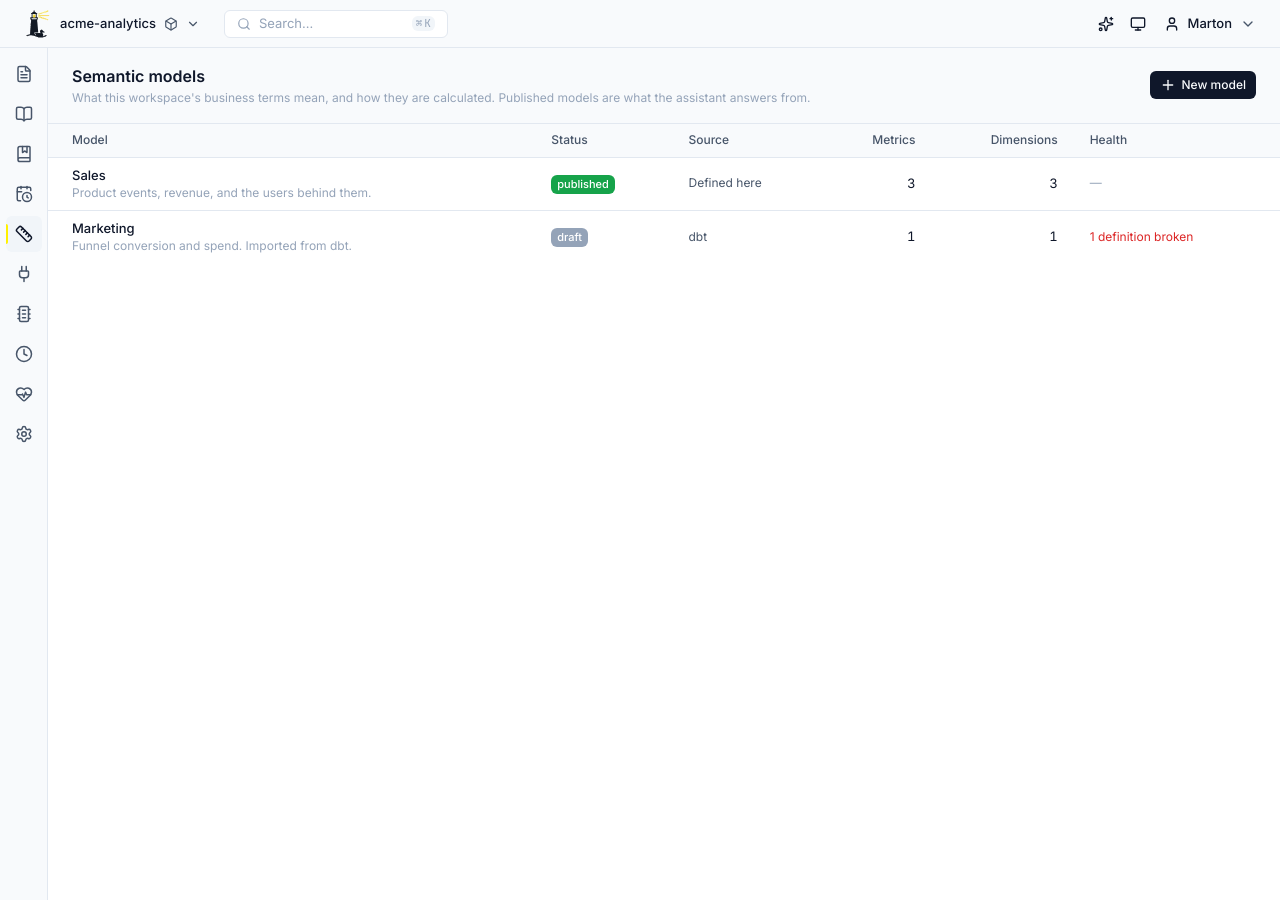
Scenario: SemanticPage › creates a model and opens it
Click the button "New model" at x=1203, y=85, box [1150,71,1256,99]
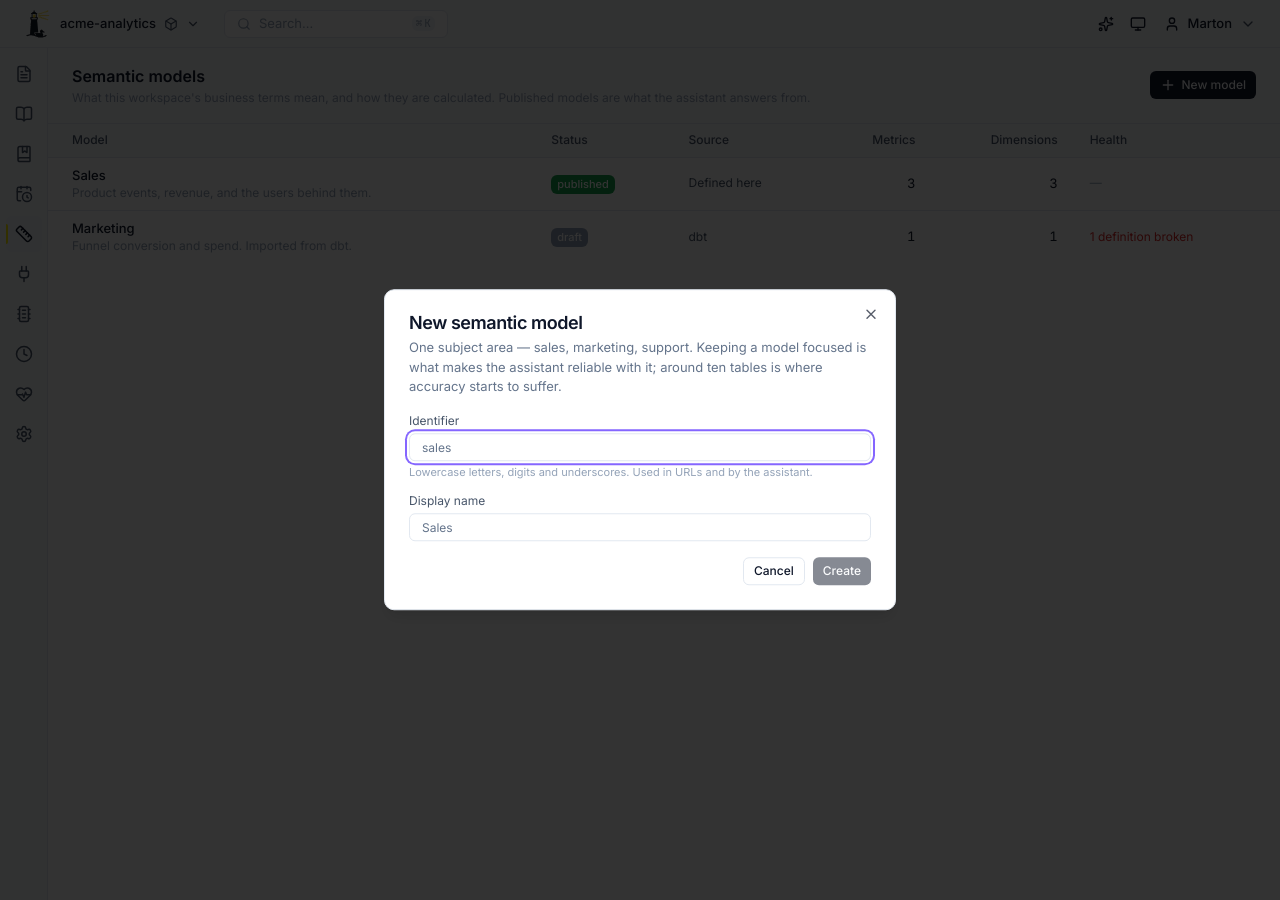
Type "support" into the field labelled "Identifier" at x=640, y=448, box [409,434,871,462]
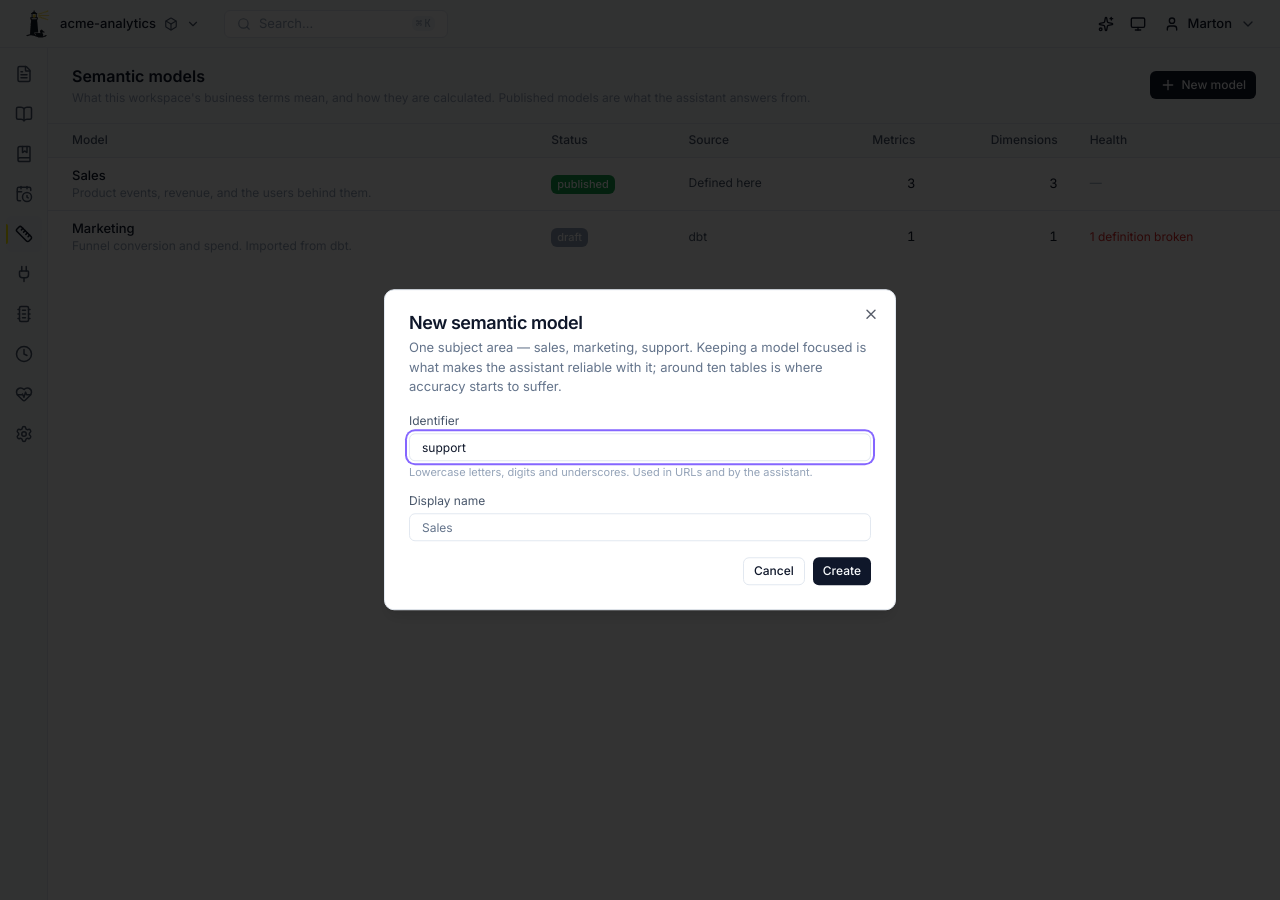
Type "Support" into the field labelled "Display name" at x=640, y=528, box [409,514,871,542]
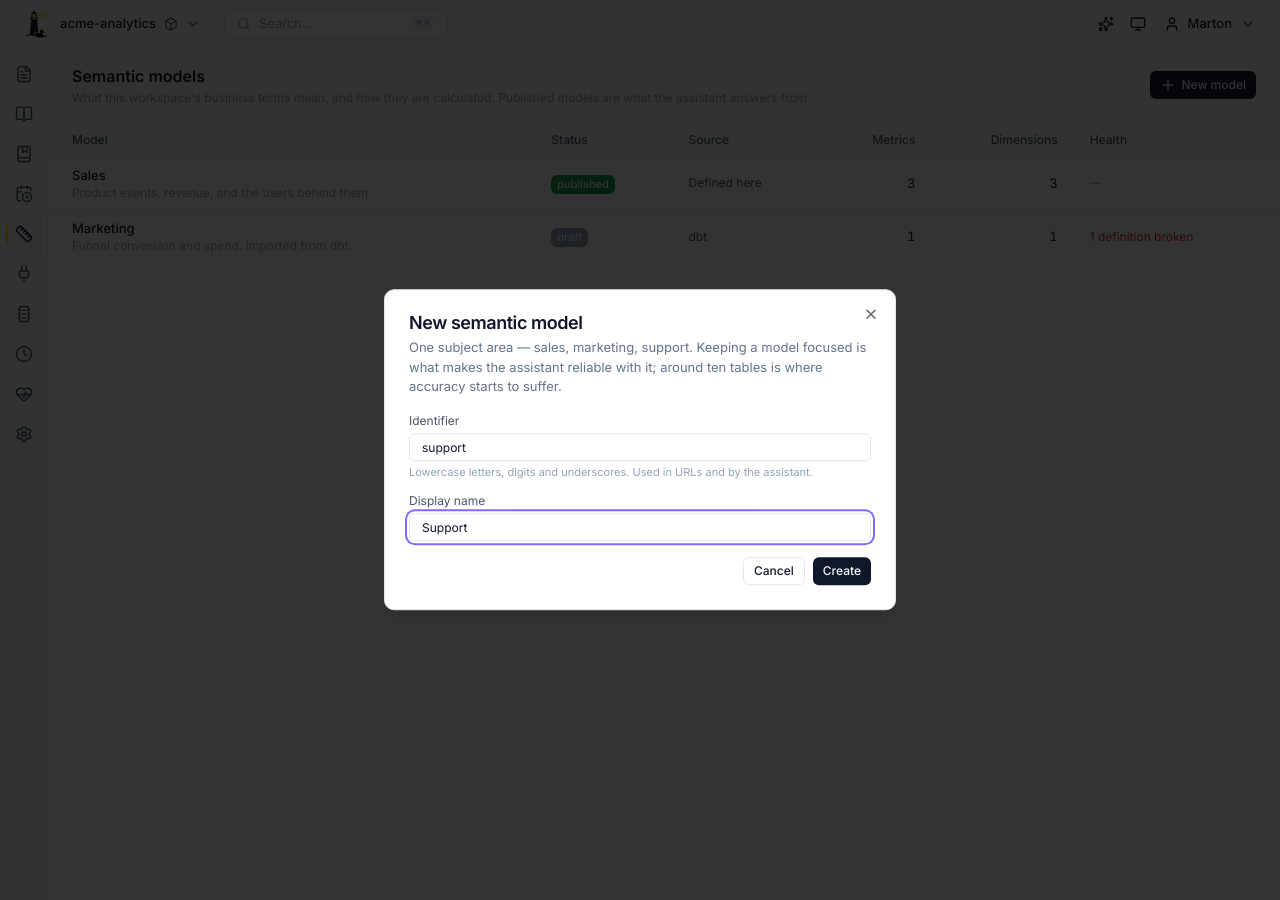
Click the button "Create" at x=842, y=572, box [813,558,871,586]
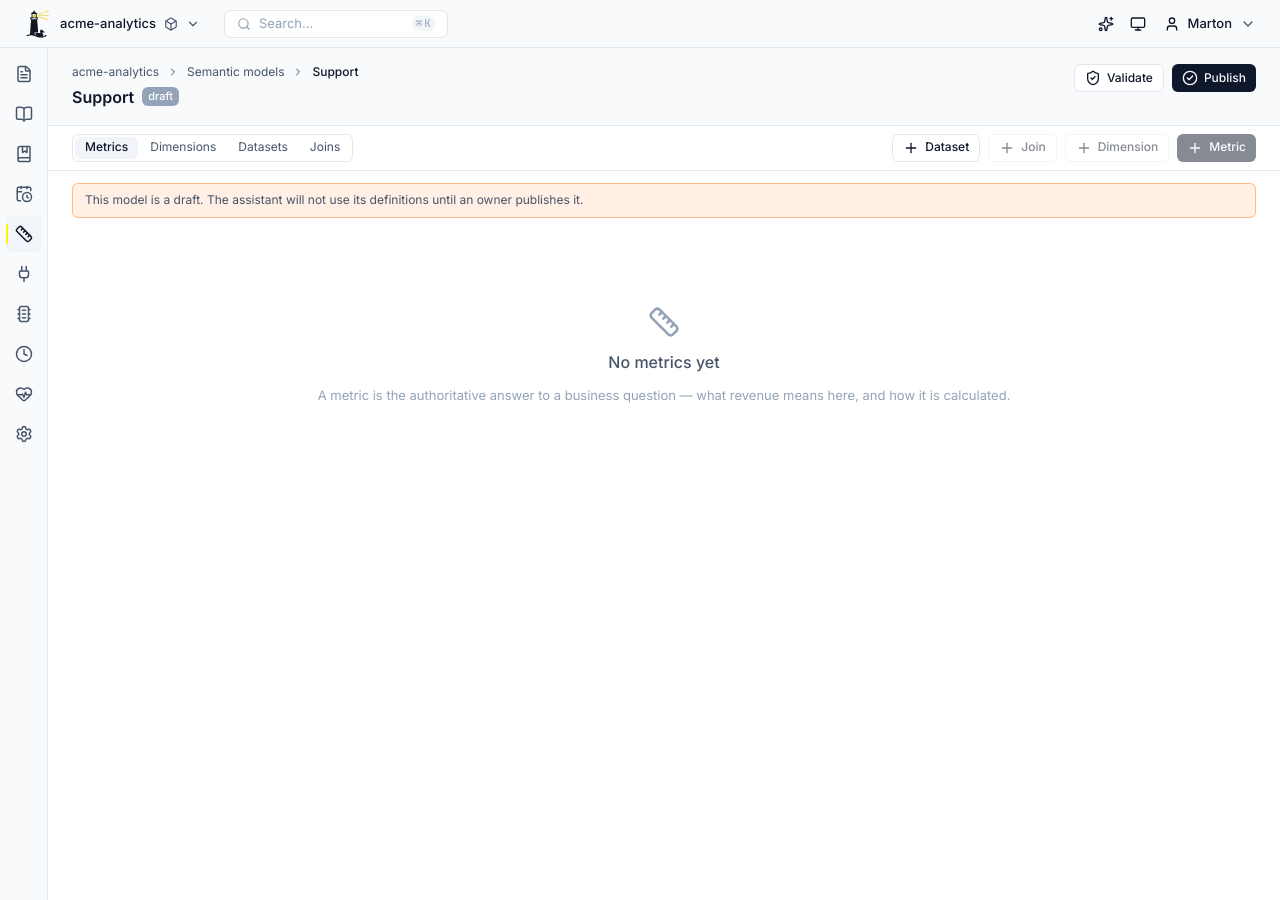
Expected: the tab "Metrics" is shown, [75,137,138,159]
